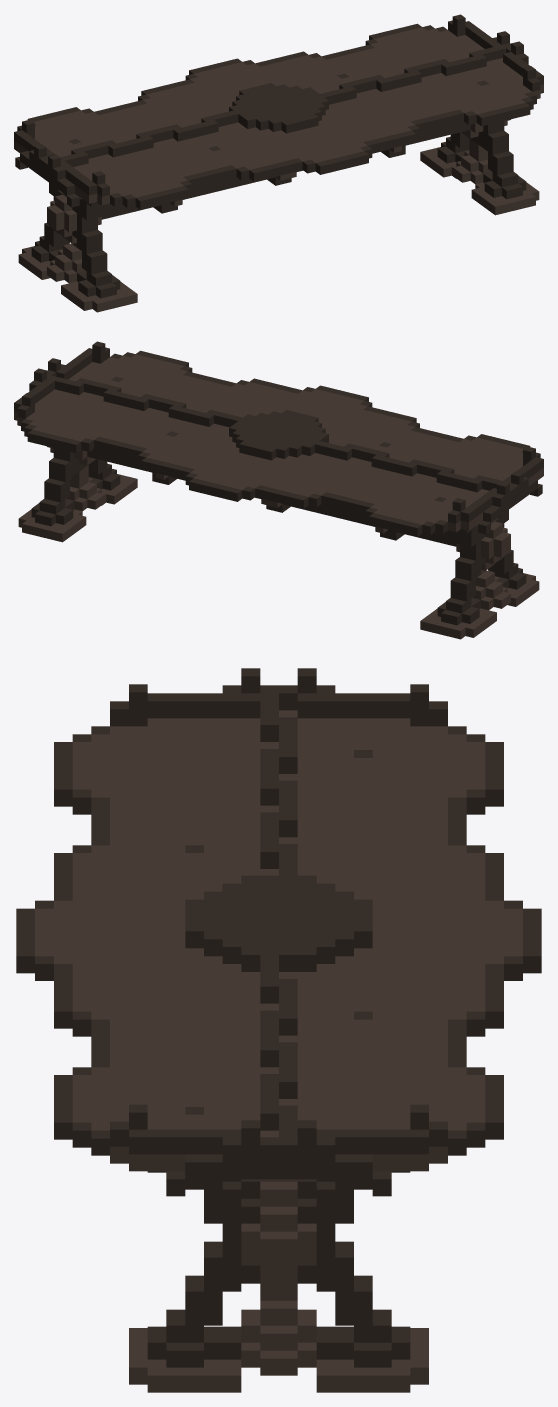
The model's file is Table2.obj.
3 views of the same model, one above another, from view 1: azimuth 30°, elevation 25°; view 2: azimuth 150°, elevation 25°; view 3: azimuth 270°, elevation 25° (orthographic). The views are drawn at different scales.
Bounding box in the file's own units: 5.8 × 1.6 × 2.8.
Materials: 1 (1 with a texture image).
